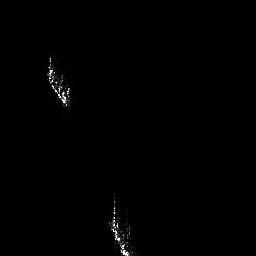ship: (106, 189, 135, 256), (45, 55, 72, 109)
